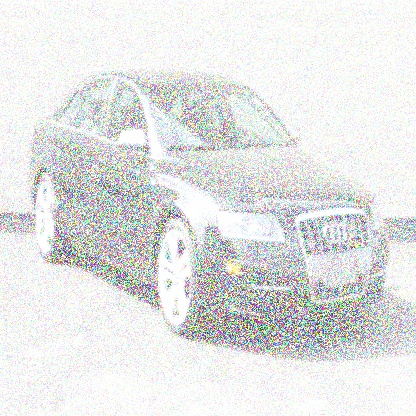Vehicle: (29, 70, 390, 339)
